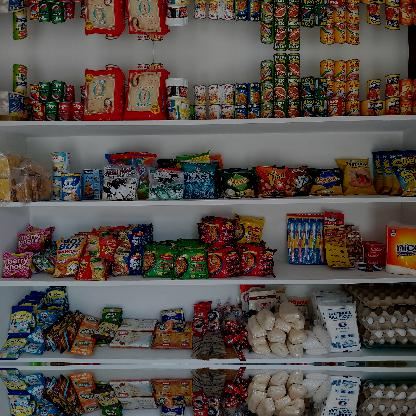Lady-s-Choice: (0, 90, 29, 121), (0, 0, 29, 15)
